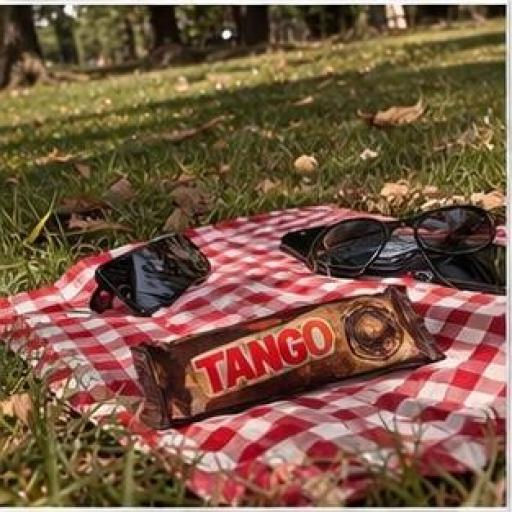tango: (117, 278, 470, 466)
